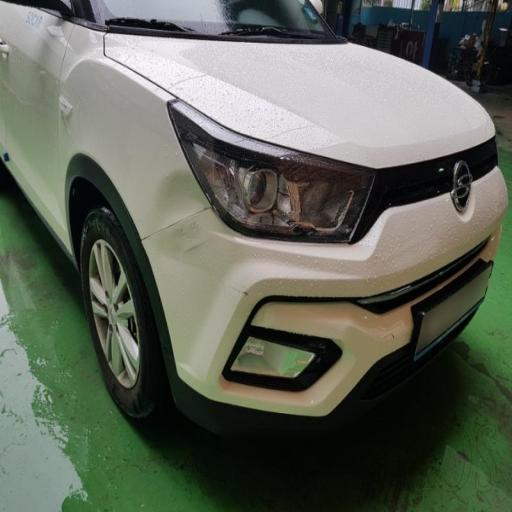dent: (122, 103, 273, 343)
